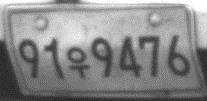1: (42, 36, 65, 81)
4: (117, 34, 142, 78)
6: (165, 33, 191, 77)
7: (137, 34, 161, 78)
9: (91, 36, 113, 79), (17, 39, 40, 79)
우: (65, 45, 91, 79)
